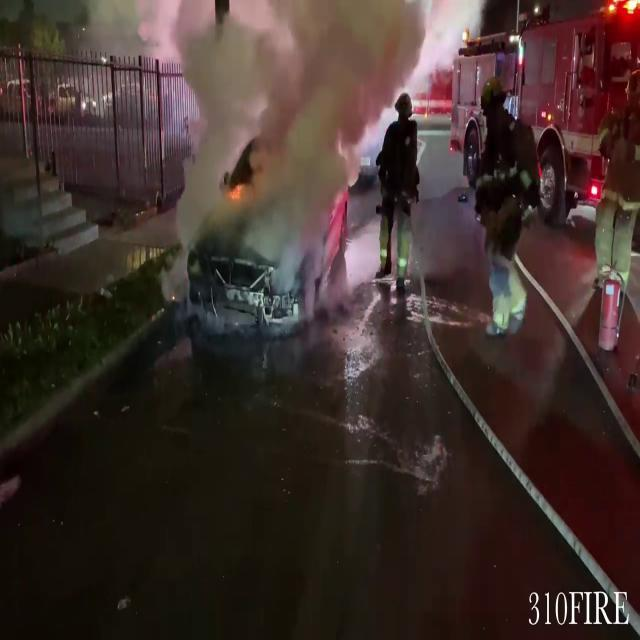Smoke: (170, 0, 443, 260)
